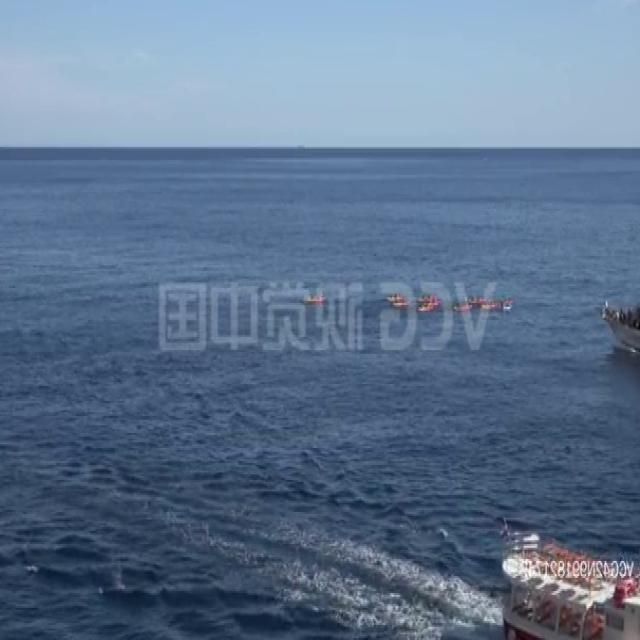houseboat: (502, 521, 640, 639), (604, 280, 640, 360), (416, 293, 442, 313), (482, 292, 511, 309), (386, 289, 410, 307), (304, 292, 326, 308), (466, 290, 487, 304), (454, 299, 472, 310)
